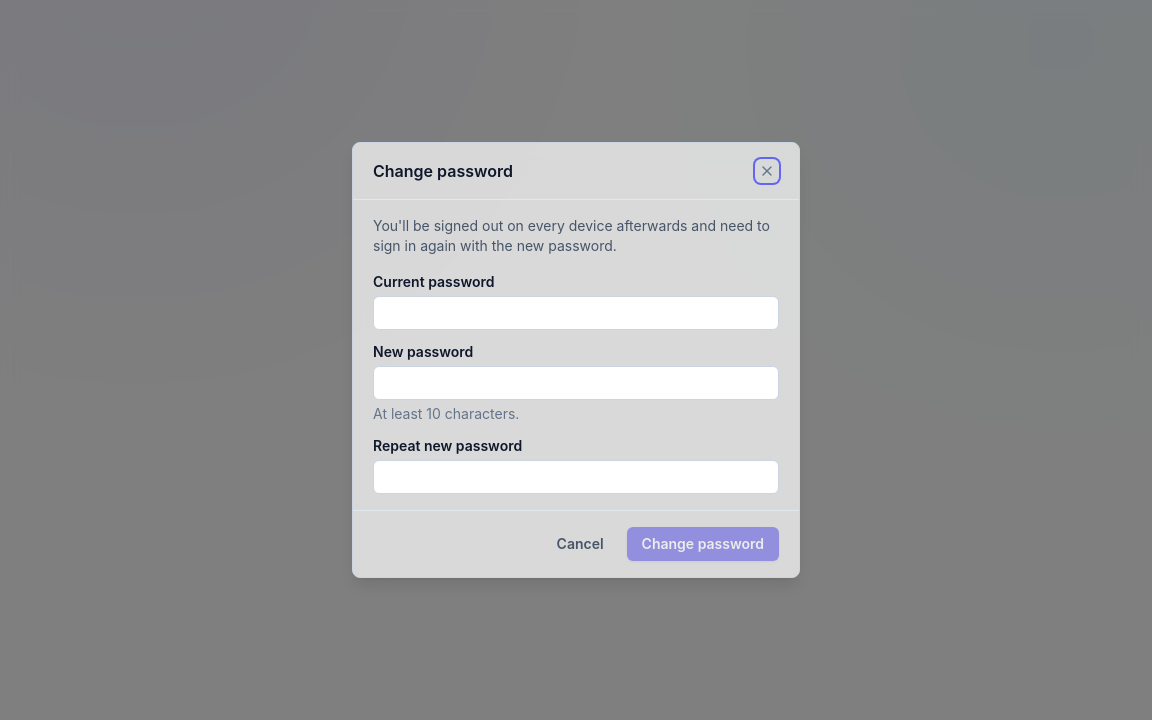
Test: ChangePasswordDialog › shows the server error and stays open
Step 1. Type "wrong" into the password field labelled "Current password" → (576, 313), box [373,296,779,330]
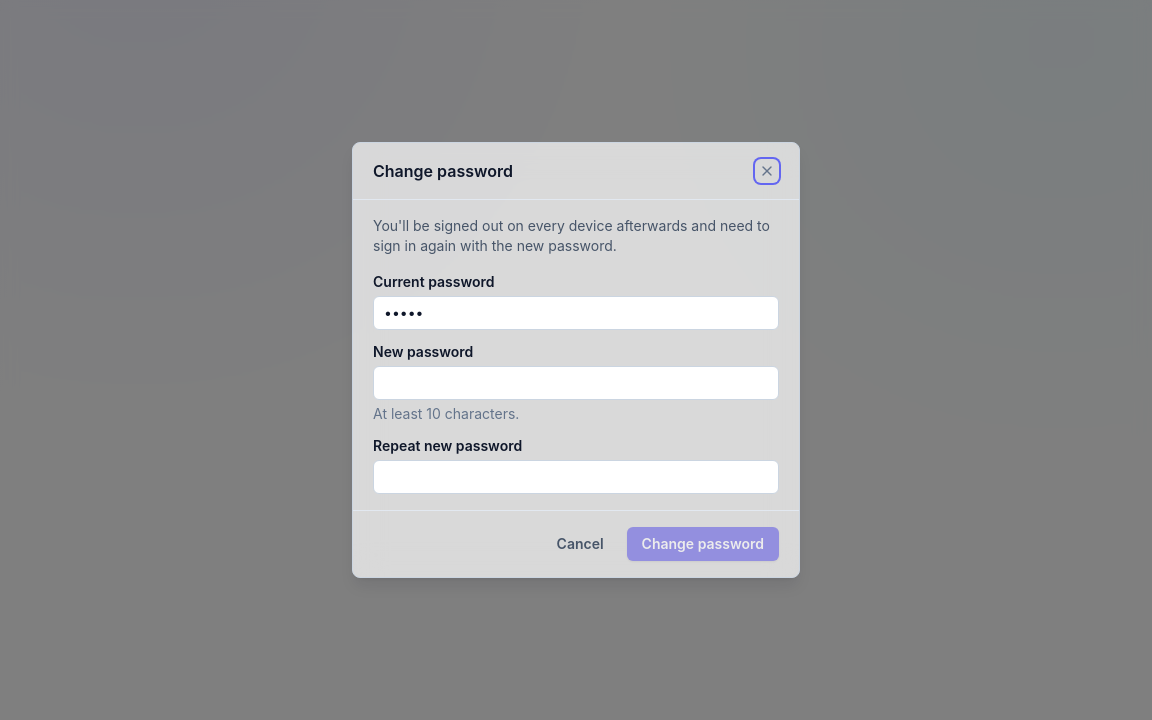
Step 2. Type "new-password-1" into the password field labelled "New password" → (576, 383), box [373,366,779,400]
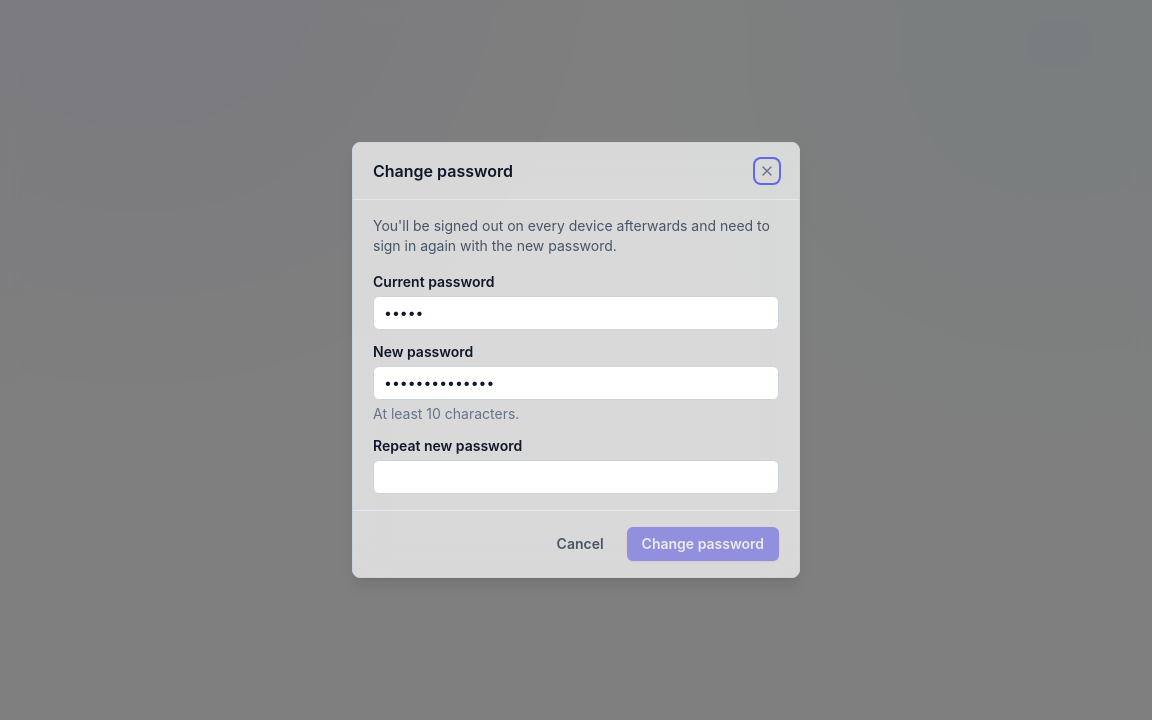
Step 3. Type "new-password-1" into the password field labelled "Repeat new password" → (576, 477), box [373,460,779,494]
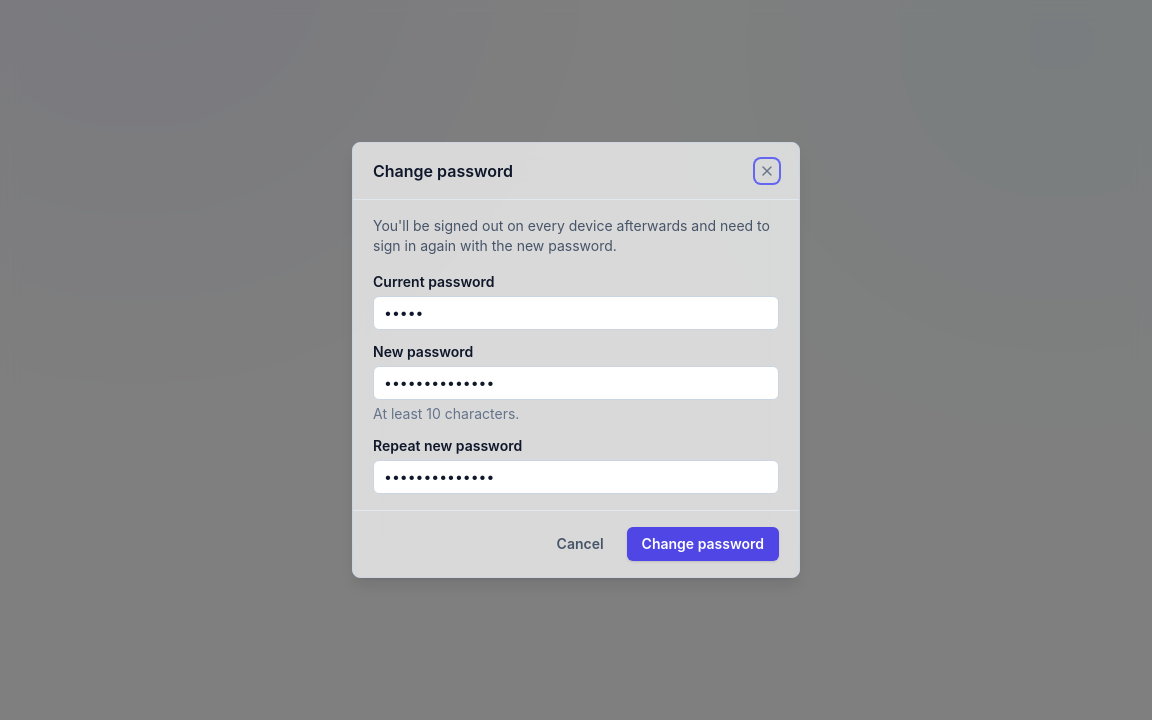
Step 4. Click the button "Change password" → (703, 544), box [627,527,779,561]
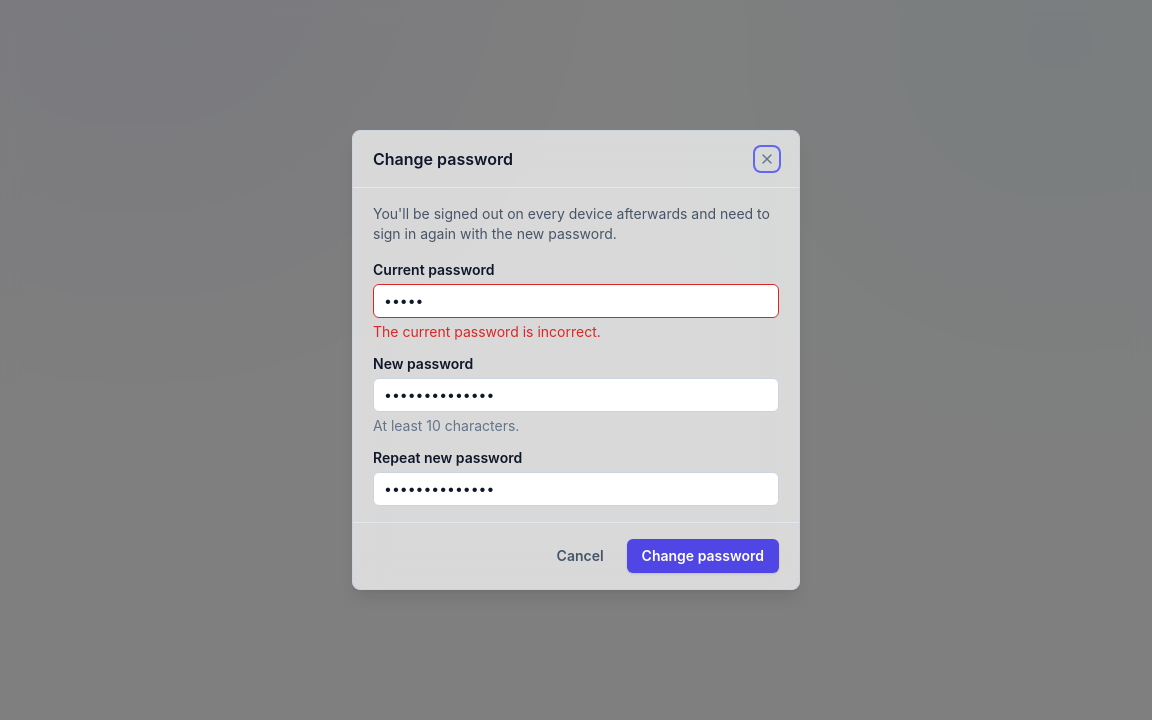
expect the text "The current password is incorrect." is shown: met, box [373,323,601,340]
